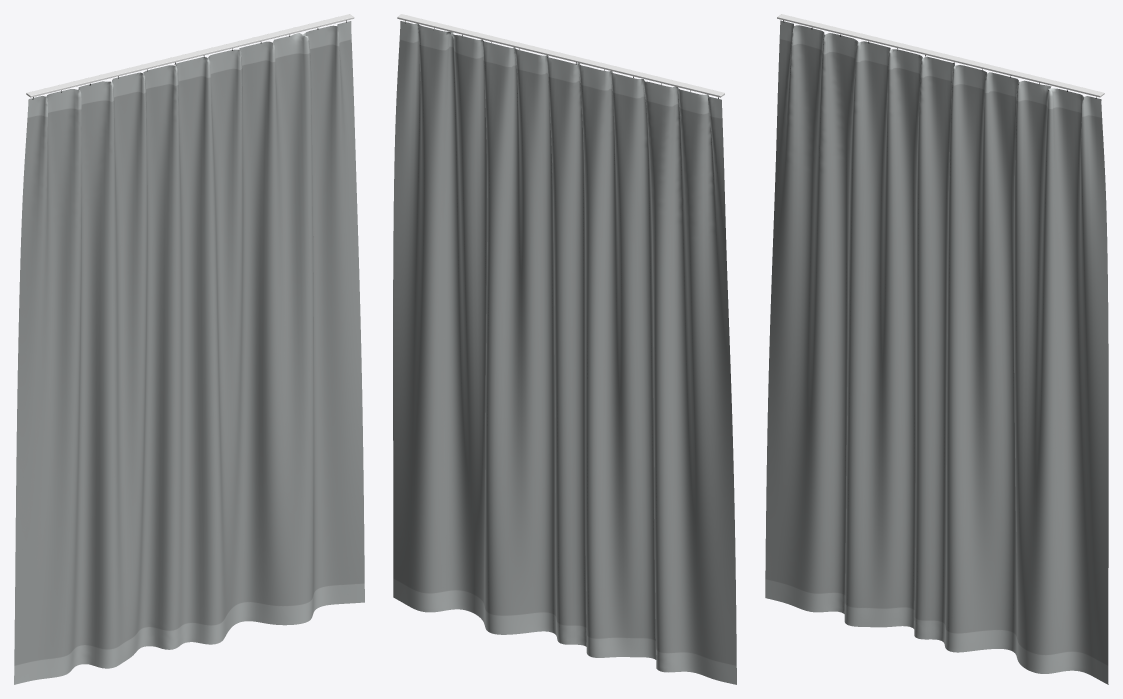
File: curtain_01_05.001.fbx
The picture shows the model from 3 angles, left to right: view 1: azimuth 30°, elevation 25°; view 2: azimuth 150°, elevation 25°; view 3: azimuth 330°, elevation 25°; orthographic projection.
Parts seen in each view (by area): view 1: curtain_01_05.001; view 2: curtain_01_05.001; view 3: curtain_01_05.001.
Boxes of the visible parts, left/top/right/bottom form: curtain_01_05.001: left=14, top=14, right=364, bottom=684; curtain_01_05.001: left=393, top=14, right=736, bottom=684; curtain_01_05.001: left=765, top=14, right=1108, bottom=684.
Bounding box in the file's own units: 141 × 229 × 12.01.
Materials: 1 (1 with a texture image).
